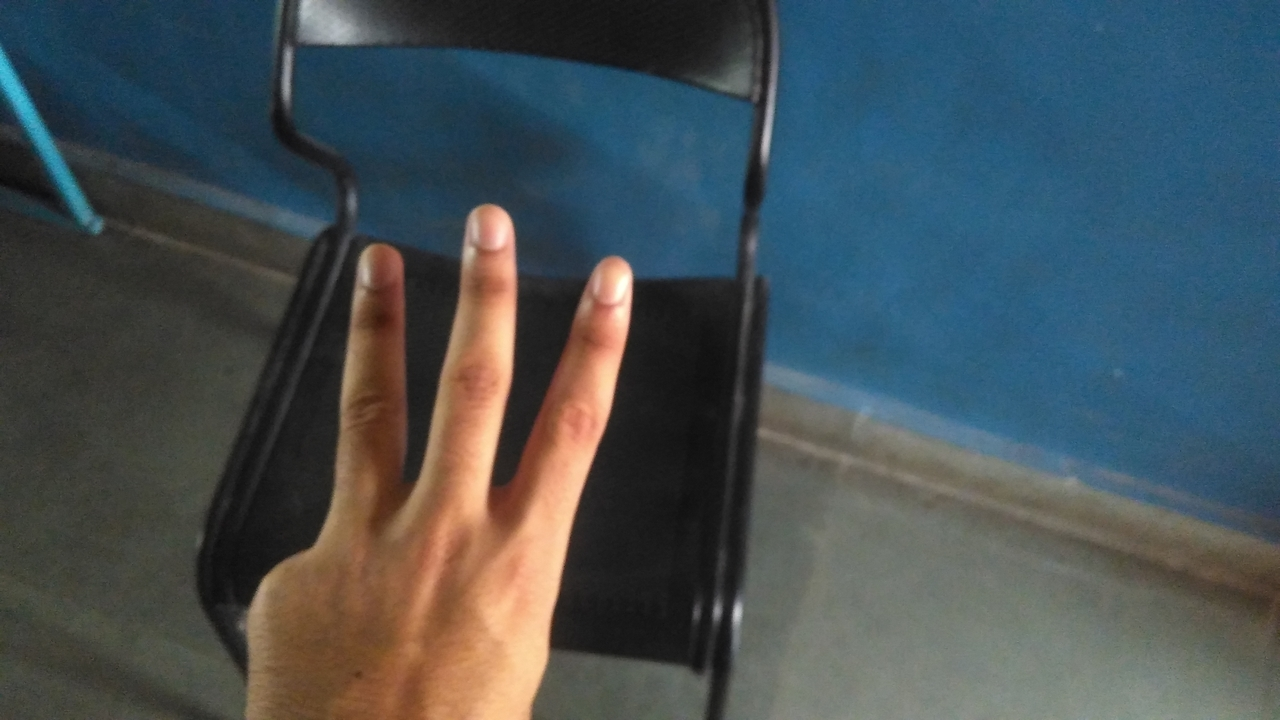fingertip: (570, 246, 642, 316), (456, 196, 520, 262), (348, 238, 406, 296)
